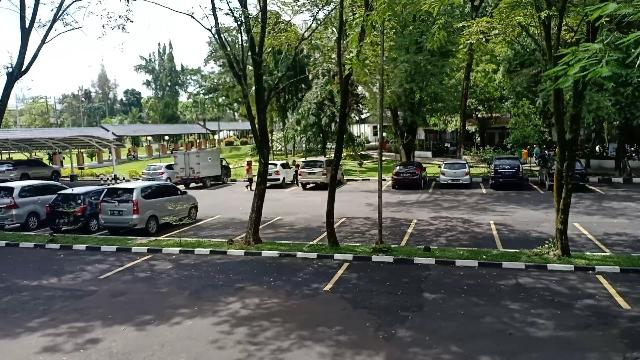empty: (337, 255, 616, 303), (119, 256, 343, 296), (409, 214, 496, 251), (497, 219, 591, 252), (333, 212, 409, 248), (261, 214, 327, 244), (190, 212, 250, 240), (338, 174, 389, 194)
occupied: (98, 188, 195, 236), (44, 188, 98, 234), (431, 161, 484, 193), (483, 162, 532, 192), (386, 163, 432, 193)
